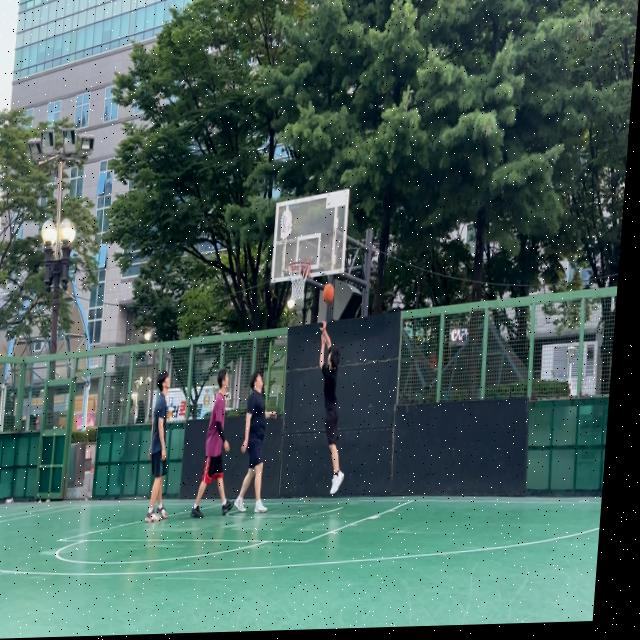basketball: (322, 283, 336, 305)
hoop: (285, 261, 310, 302)
